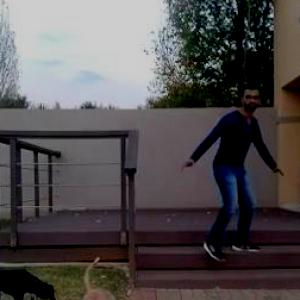land: (192, 86, 274, 269)
